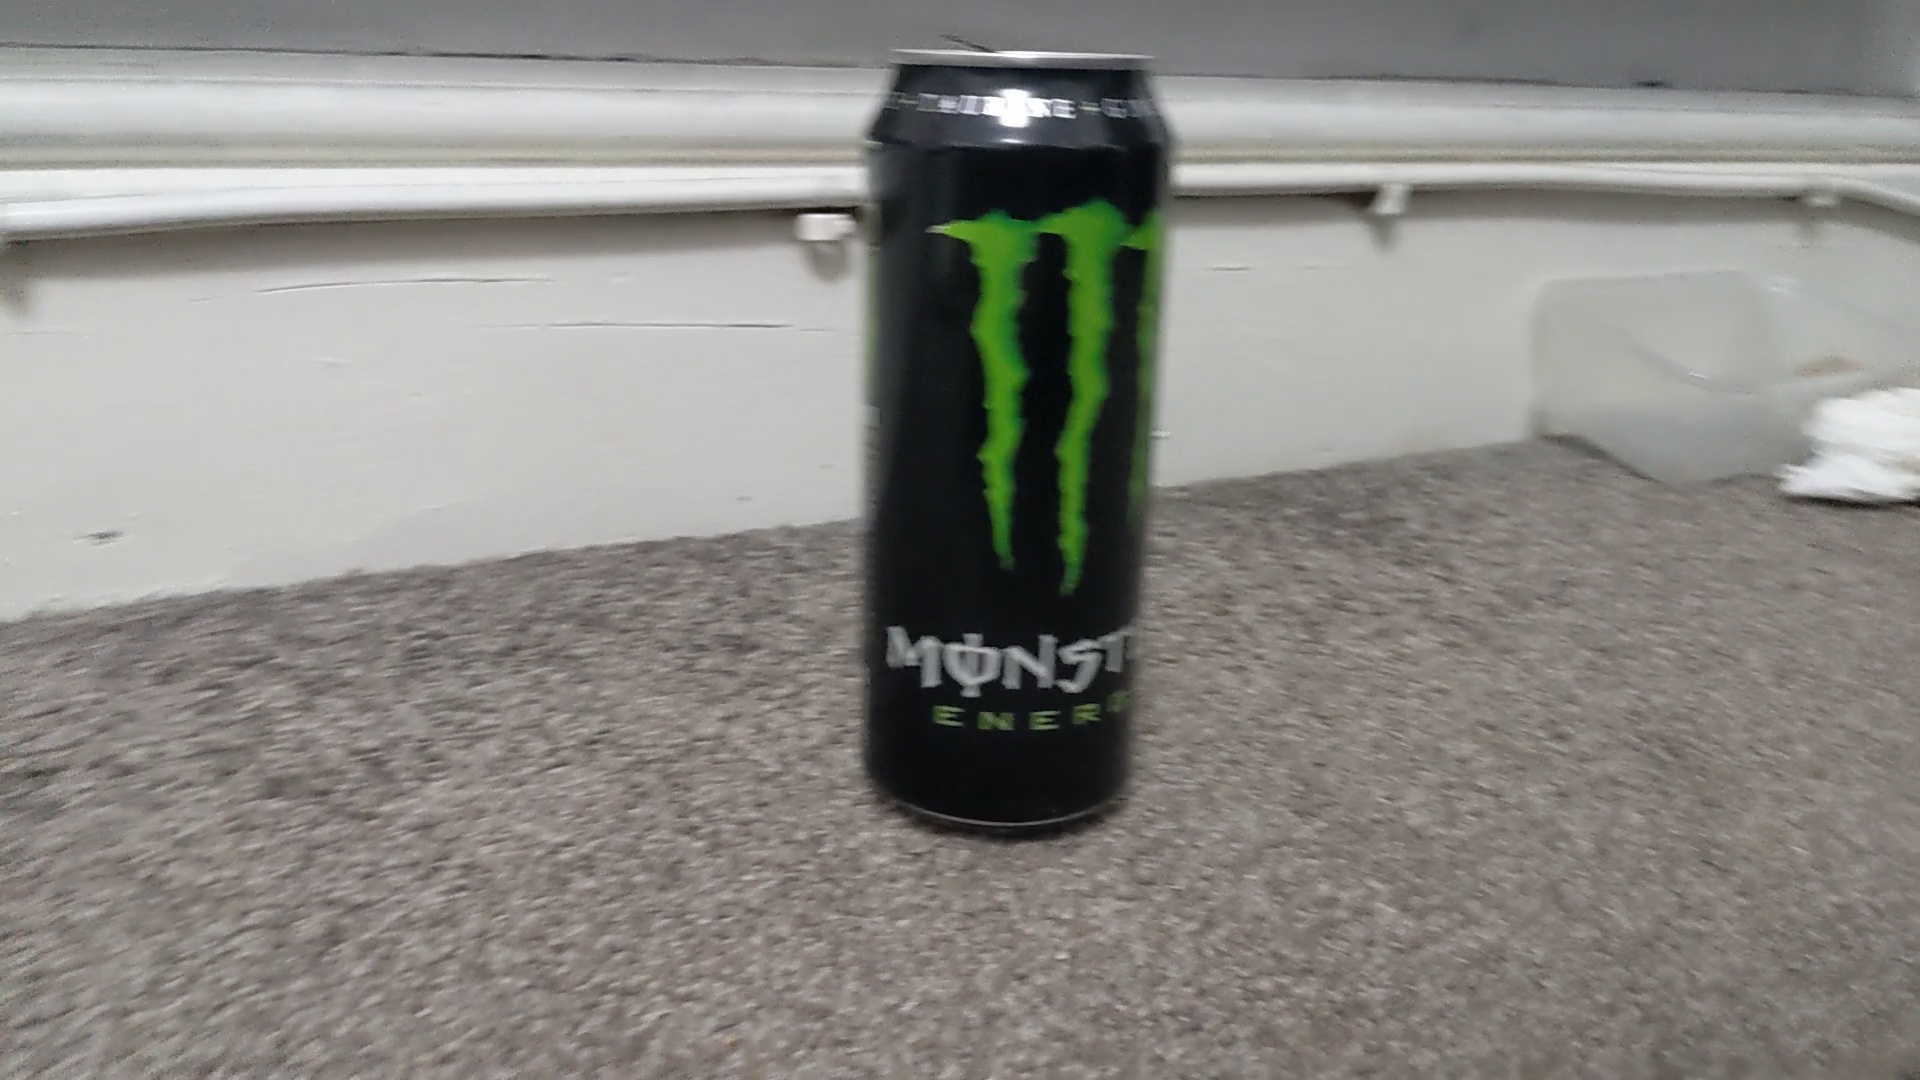monster-original: (848, 32, 1178, 840)
